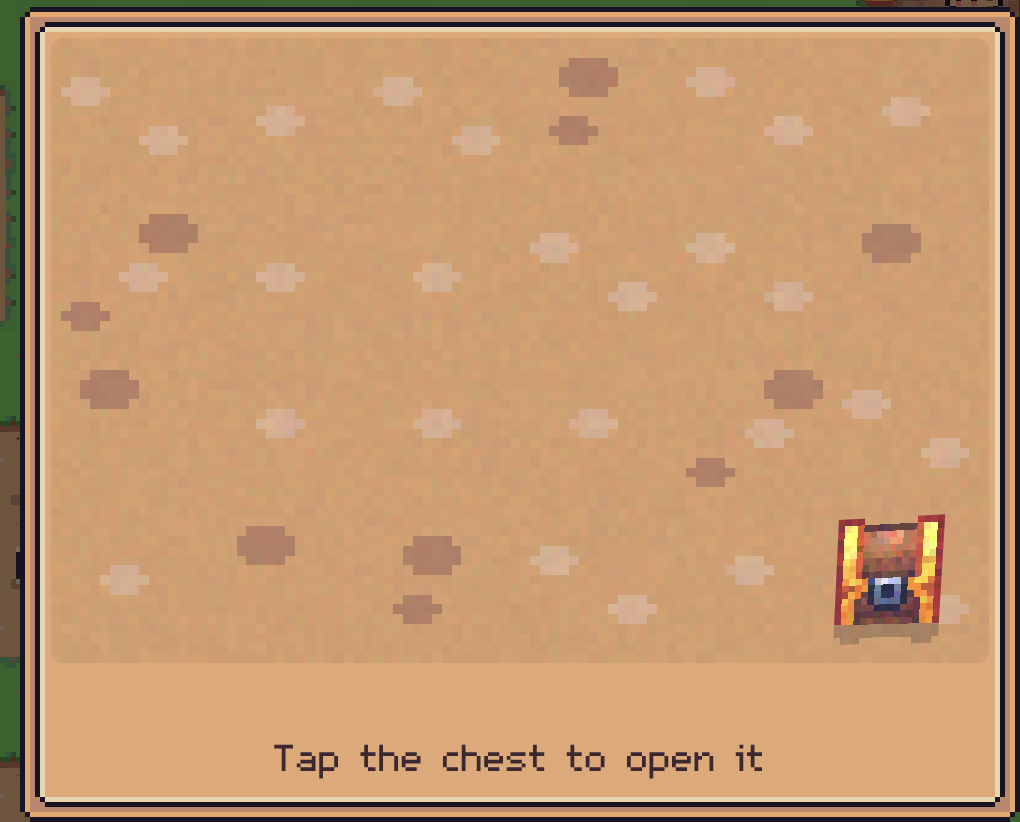capcha_chest: (834, 514, 947, 630)
